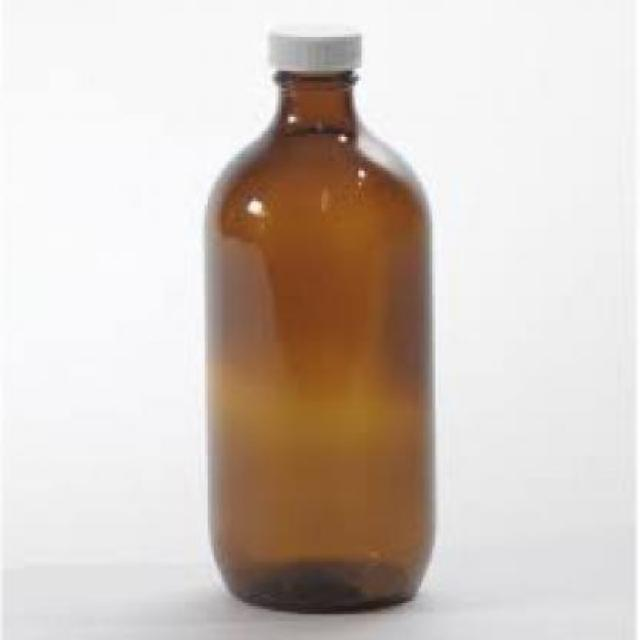GLASS: (207, 68, 438, 614)
PLASTIC: (270, 23, 361, 66)
